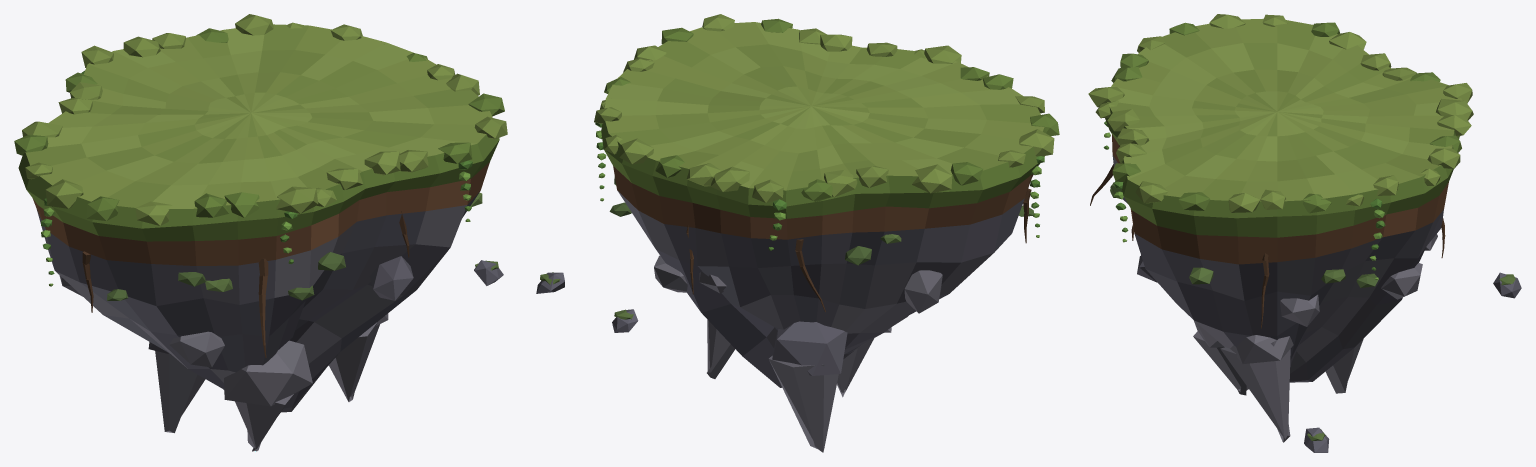
File: islet_1.glb
The picture shows the model from 3 angles, left to right: view 1: azimuth 30°, elevation 25°; view 2: azimuth 150°, elevation 25°; view 3: azimuth 270°, elevation 25°; orthographic projection. The views are drawn at different scales.
Parts seen in each view (by area): view 1: islet_1; view 2: islet_1; view 3: islet_1.
Boxes of the visible parts, x1,y1,x2,y2 form: islet_1: (14,14,507,451); islet_1: (536,14,1059,452); islet_1: (1088,14,1521,452).
Bounding box in the file's own units: 4.89 × 3.23 × 4.02.
